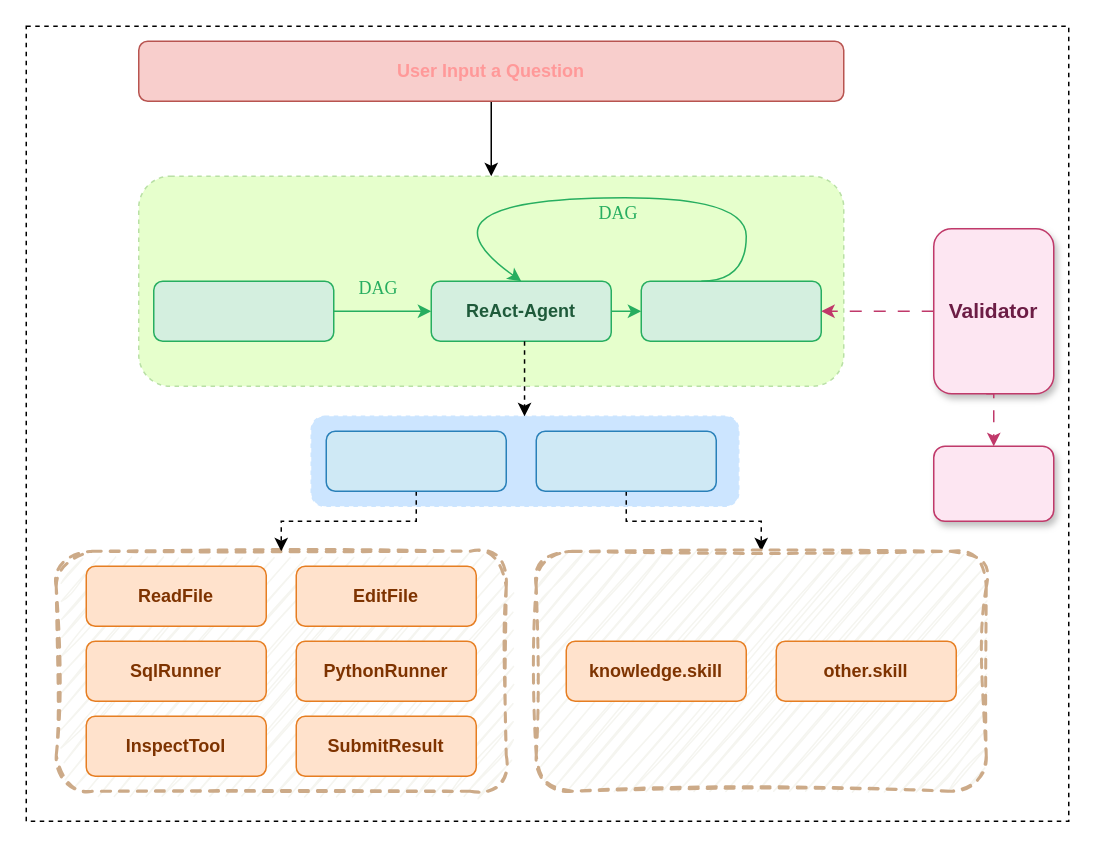
Image size: 1095x848. Some labels were removed from this diagram. Here are the shapes that lost their labels. From the top down, the centre of each, then its label:
At point 243,310: "Planner".
At point 730,310: "Replanner".
At point 415,460: "Tool Call".
At point 625,460: "Skills".
At point 994,485: "Submit Answer".
